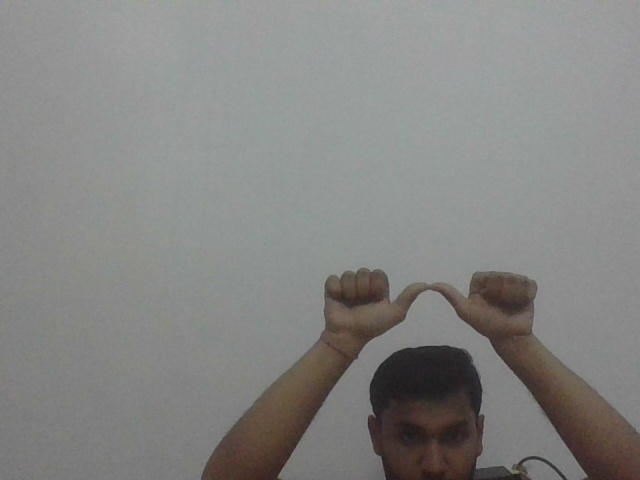A: (322, 266, 543, 335)
